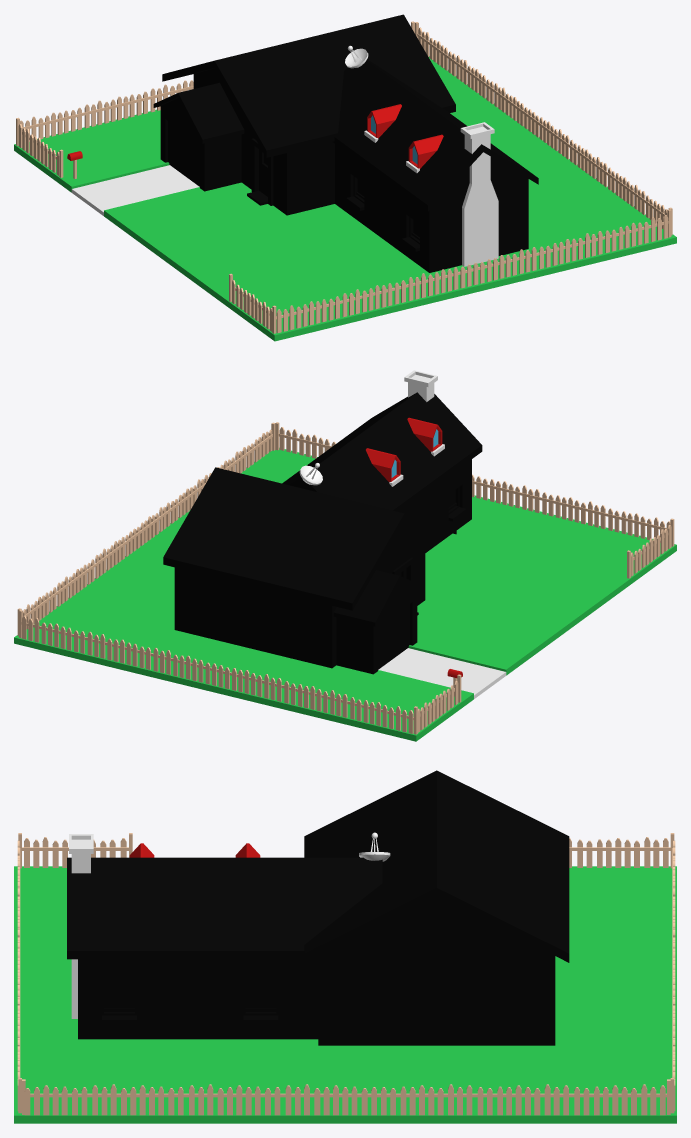
Rendered from House_04.FBX.
3 renders of one model, top to bottom at view 1: azimuth 30°, elevation 25°; view 2: azimuth 150°, elevation 25°; view 3: azimuth 270°, elevation 25°, orthographic. The views are drawn at different scales.
Visible parts, largest first — view 1: House_04; view 2: House_04; view 3: House_04.
Boxes of the visible parts, x1,y1,x2,y2 form: House_04: (14,14,676,341); House_04: (14,370,676,741); House_04: (14,770,676,1123).
Bounding box in the file's own units: 34.13 × 11.24 × 38.33.
